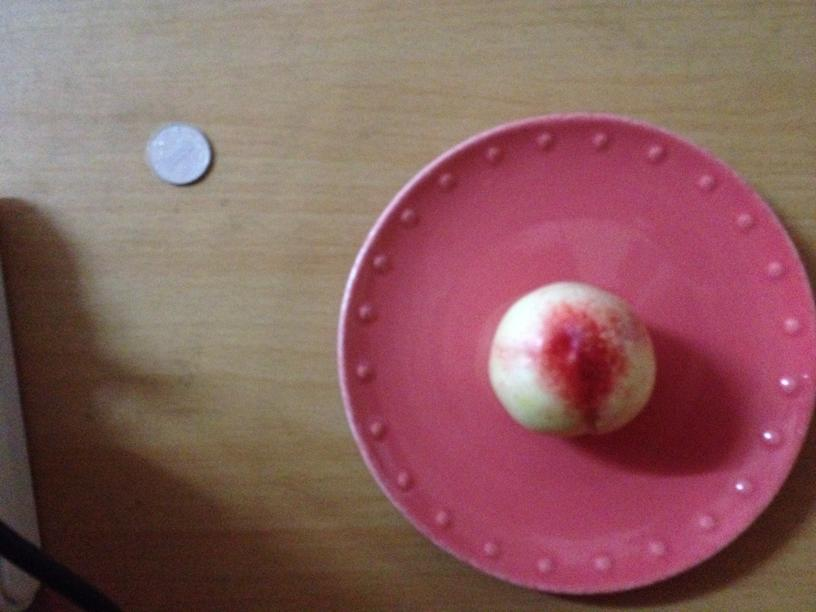coin: (147, 124, 212, 184)
peach: (484, 281, 656, 439)
